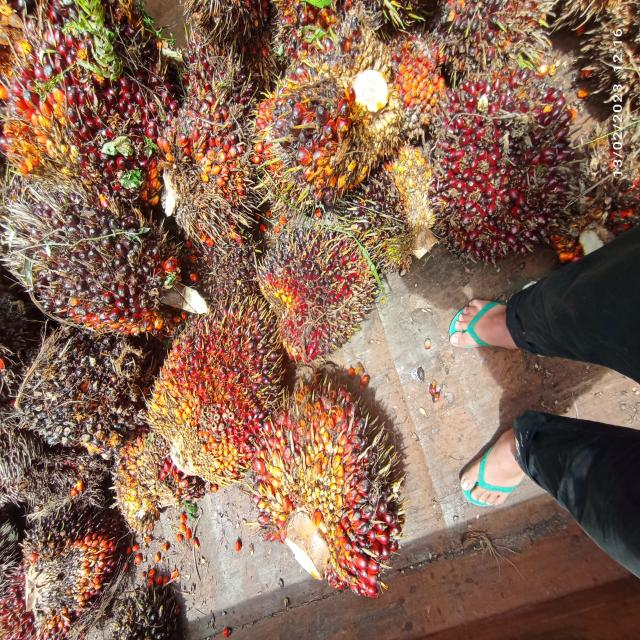fraksi 00: (0, 141, 186, 350), (0, 293, 157, 468), (17, 494, 143, 624), (2, 418, 79, 519)
fraksi 1: (239, 353, 425, 631), (262, 0, 420, 205), (432, 41, 576, 252), (252, 187, 394, 351), (153, 49, 253, 242)
fraksi 3: (139, 266, 305, 500), (7, 0, 173, 222), (376, 24, 451, 142)
